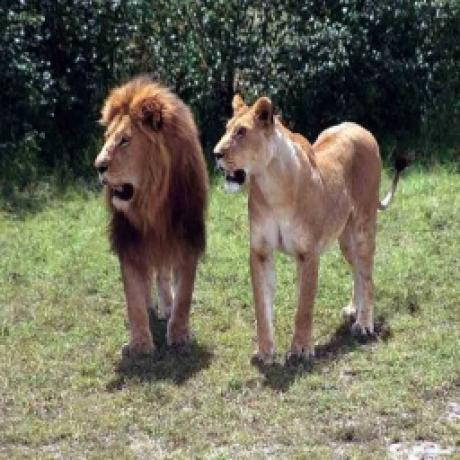Lion: (213, 86, 404, 368), (94, 77, 208, 362)
